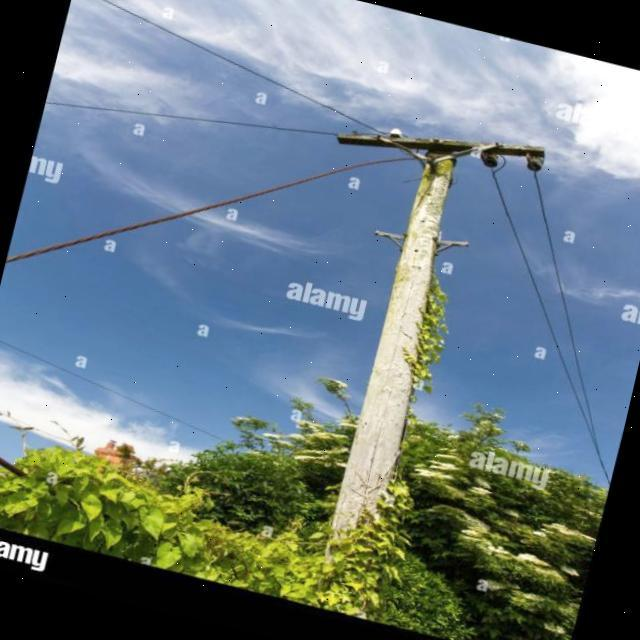critical vegetation: (296, 106, 534, 433)
